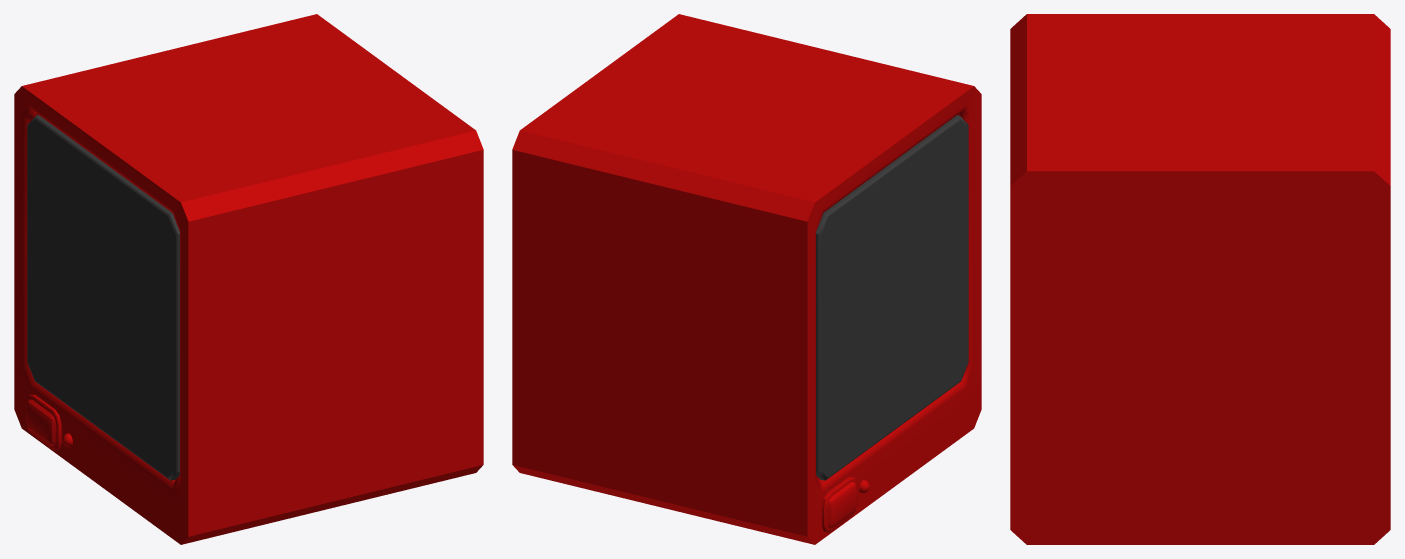
File: SmallScreen_low.fbx
The picture shows the model from 3 angles, left to right: view 1: azimuth 30°, elevation 25°; view 2: azimuth 150°, elevation 25°; view 3: azimuth 270°, elevation 25°; orthographic projection. The views are drawn at different scales.
Parts seen in each view (by area): view 1: SmallScreen_low; view 2: SmallScreen_low; view 3: SmallScreen_low.
Part boxes in pixels (<box>): SmallScreen_low: <box>14,14,483,544</box>; SmallScreen_low: <box>512,14,981,544</box>; SmallScreen_low: <box>1010,14,1390,544</box>.
Size of the model in its own units: 73.65 by 79.43 by 73.25.
